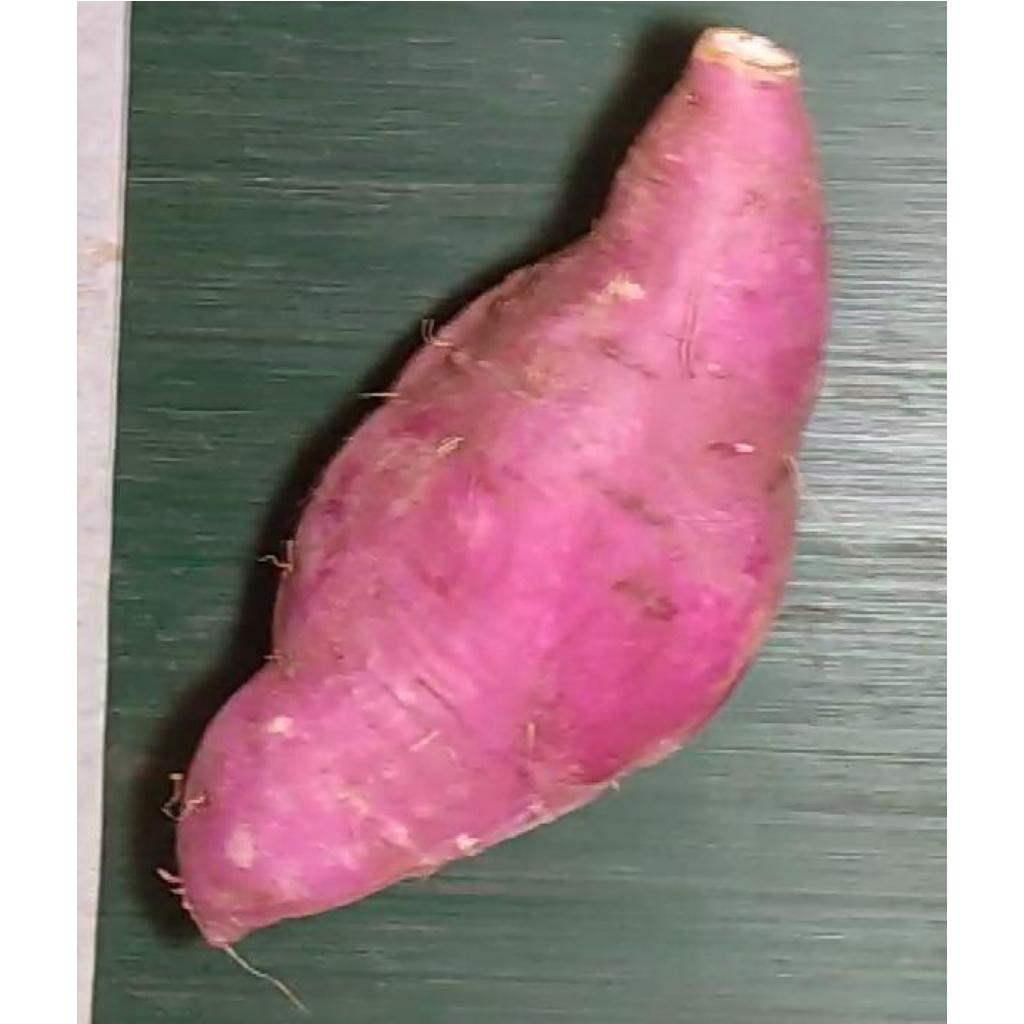Sweet Potato: (167, 24, 831, 952)
